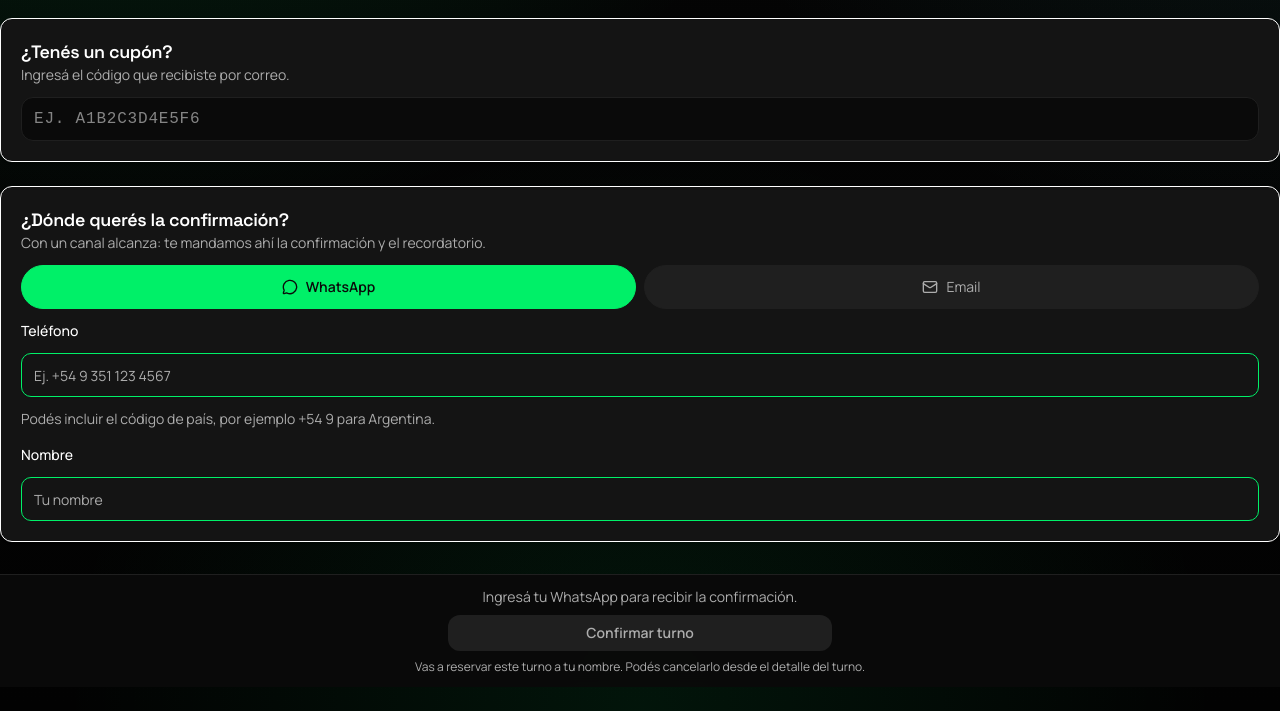
Test: SelectPaymentPage: canal de contacto del invitado › habilita la confirmacion con solo el WhatsApp cuando el canal es WhatsApp
(page scrolled)
Expected: the button "Confirmar turno" is disabled, [448,615,832,651]
Expected: the text "Ingresá tu WhatsApp para recibir la confirmación." is shown, [483,587,797,606]
Type "+54 9 351 123 4567" into the field labelled "Teléfono" at (640, 375), box [21,353,1259,397]
(page scrolled)
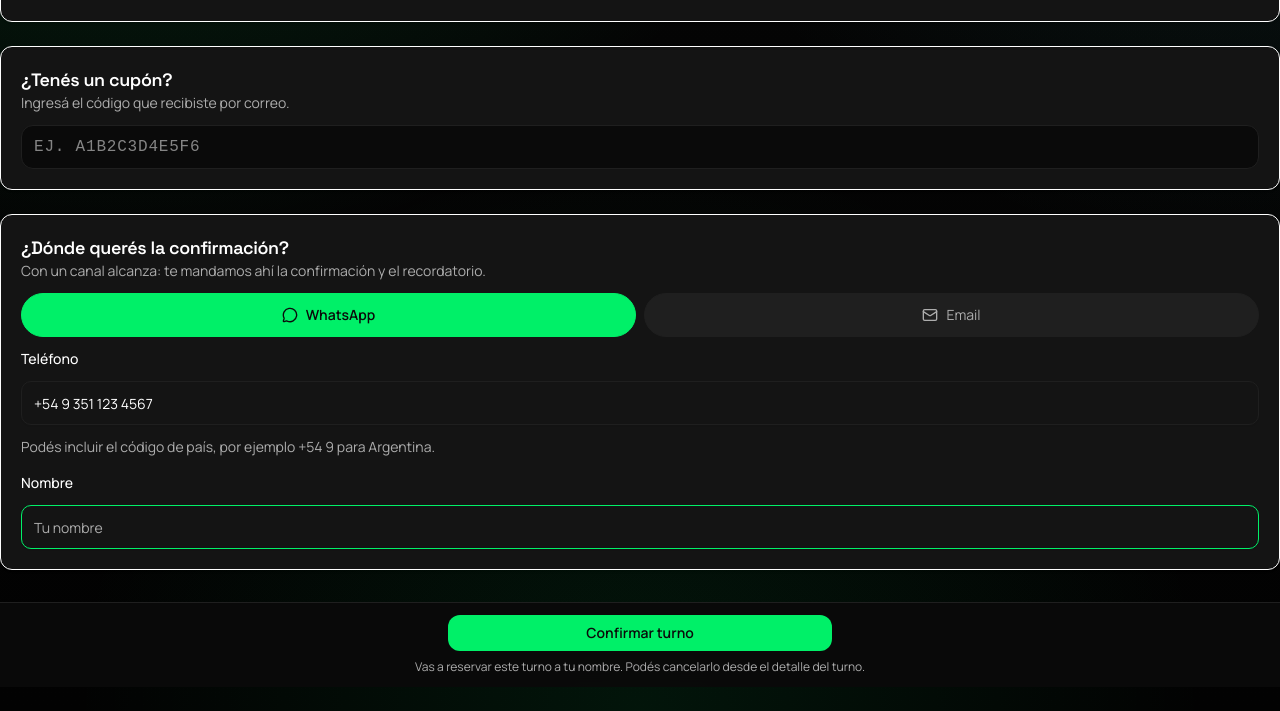
Result: the button "Confirmar turno" is enabled at [448,615,832,651]
